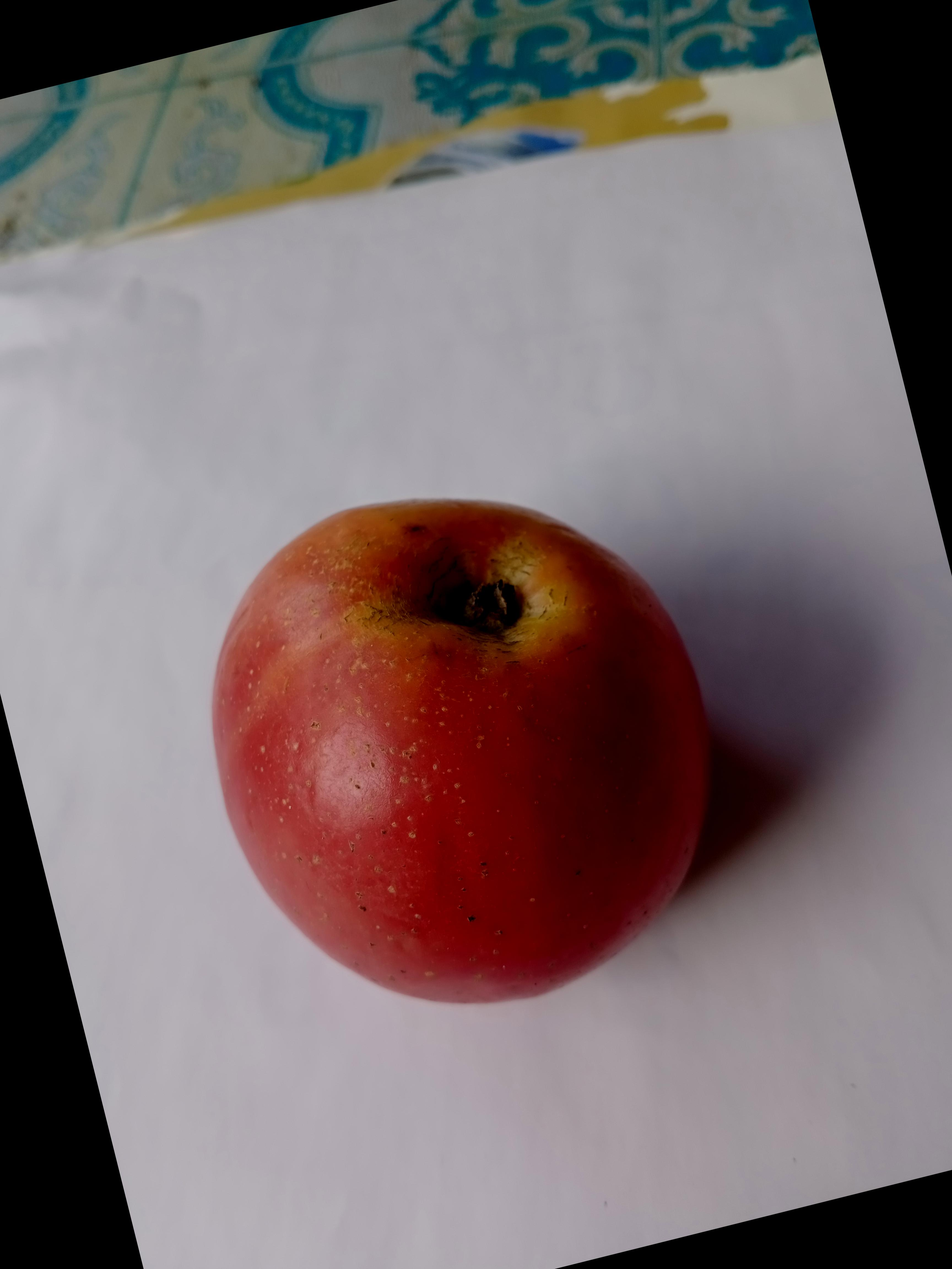Apple Ripe: (0, 584, 607, 1239)
